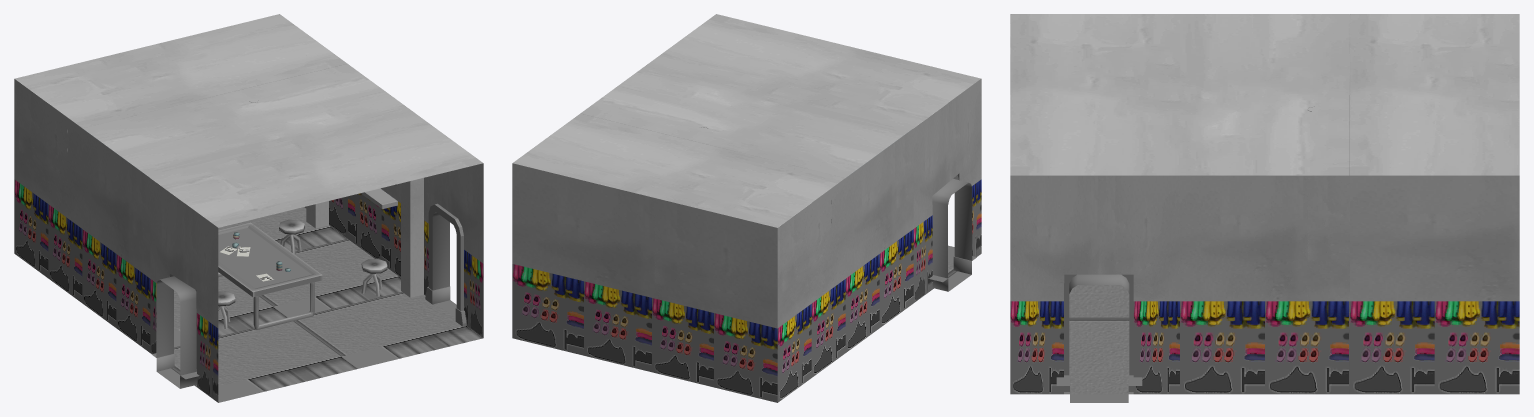
The model's file is MSH_Game_room_L1_R1_optimized.fbx.
The picture shows the model from 3 angles, left to right: view 1: azimuth 30°, elevation 25°; view 2: azimuth 150°, elevation 25°; view 3: azimuth 270°, elevation 25°; orthographic projection. The views are drawn at different scales.
Parts seen in each view (by area): view 1: lightmap1, lightmap0, lightmap-1; view 2: lightmap1, lightmap-1; view 3: lightmap1, lightmap-1.
Boxes of the visible parts, x1,y1,x2,y2 form: lightmap1: (14, 14, 483, 402); lightmap0: (67, 100, 397, 329); lightmap-1: (156, 212, 456, 388); lightmap1: (512, 14, 981, 402); lightmap-1: (932, 178, 972, 291); lightmap1: (1010, 14, 1519, 394); lightmap-1: (1069, 274, 1129, 402).
Bounding box in the file's own units: 10.3 × 5.87 × 12.39.
